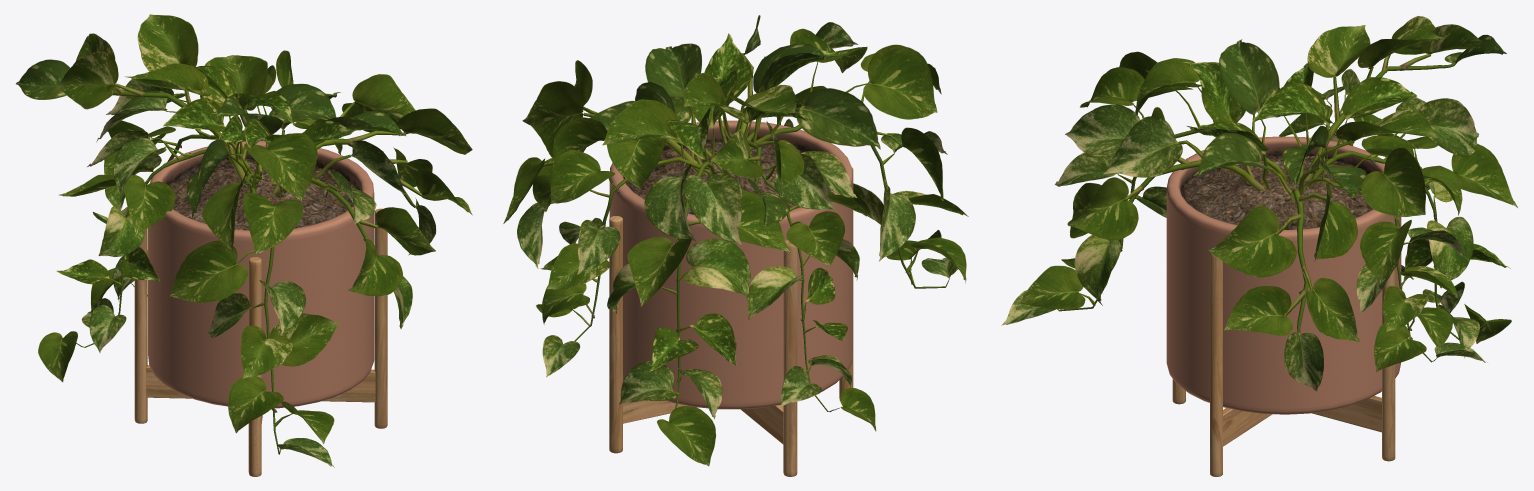
File: free_pothos_potted_plant_money_plant.glb
The picture shows the model from 3 angles, left to right: view 1: azimuth 30°, elevation 25°; view 2: azimuth 150°, elevation 25°; view 3: azimuth 270°, elevation 25°; orthographic projection. The views are drawn at different scales.
Visible parts, largest first — view 1: POTHOS, POT_WOOD_LEGS; view 2: POTHOS, POT_WOOD_LEGS; view 3: POTHOS, POT_WOOD_LEGS.
Boxes of the visible parts, bbox=[...] form: POTHOS: bbox=[16, 14, 472, 467]; POT_WOOD_LEGS: bbox=[134, 141, 387, 476]; POTHOS: bbox=[503, 15, 968, 466]; POT_WOOD_LEGS: bbox=[609, 120, 853, 476]; POTHOS: bbox=[1001, 16, 1517, 391]; POT_WOOD_LEGS: bbox=[1166, 136, 1401, 476].
Size of the model in its own units: 0.8265 by 0.7916 by 0.9741.
2 materials, 2 textured.
